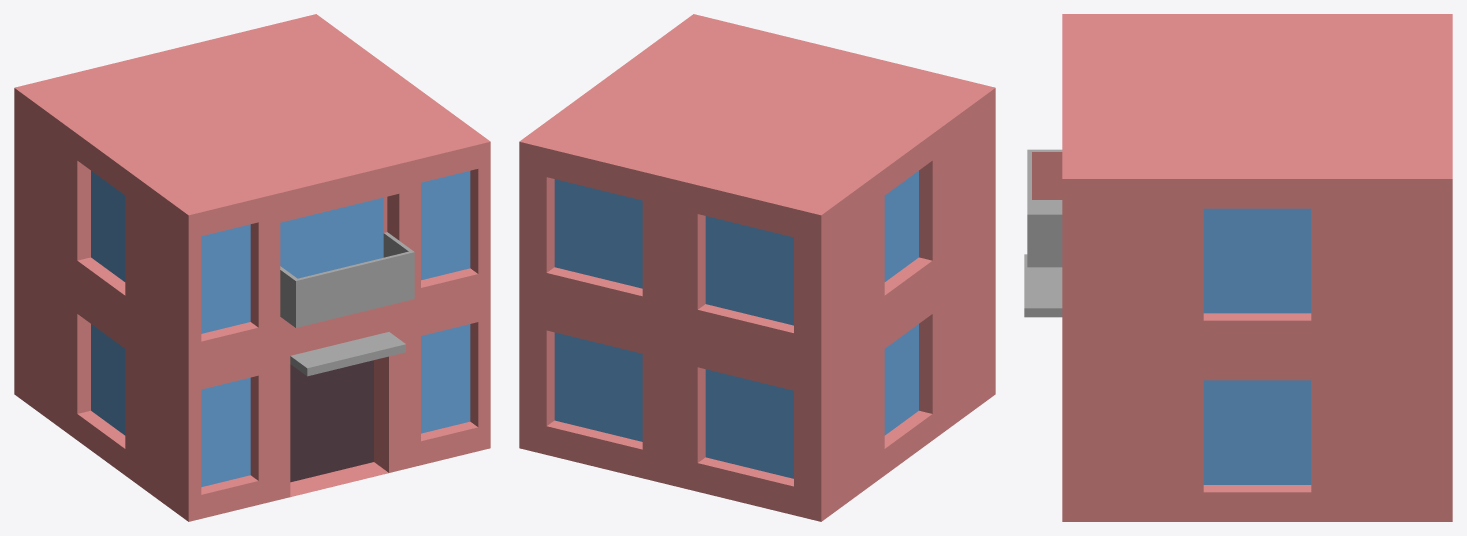
File: building_1x1_5_g.glb
3 renders of one model, left to right at view 1: azimuth 30°, elevation 25°; view 2: azimuth 150°, elevation 25°; view 3: azimuth 270°, elevation 25°, orthographic. The views are drawn at different scales.
Visible parts, largest first — view 1: Cube; view 2: Cube; view 3: Cube.
Boxes of the visible parts, x1=… form: Cube: x1=14, y1=14, x2=490, y2=521; Cube: x1=519, y1=14, x2=995, y2=521; Cube: x1=1024, y1=14, x2=1452, y2=521.
Size of the model in its own units: 1.65 by 1.6 by 1.81.
